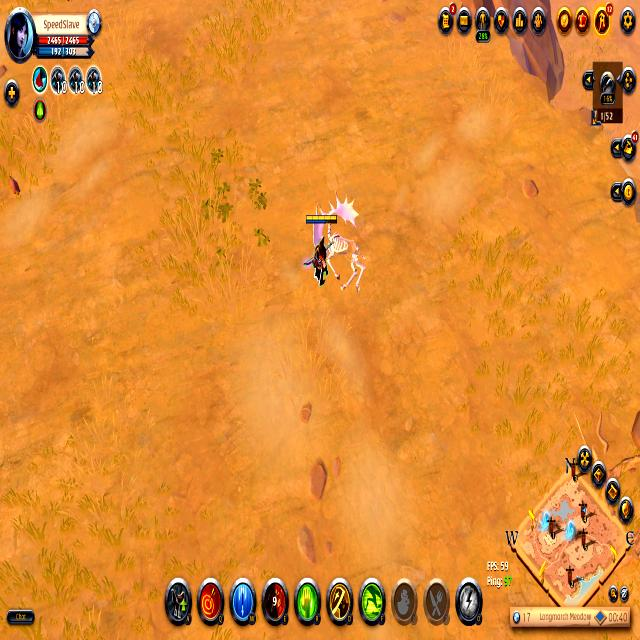red: (306, 212, 336, 285)
